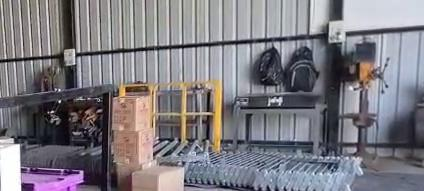box: (21, 168, 83, 190)
